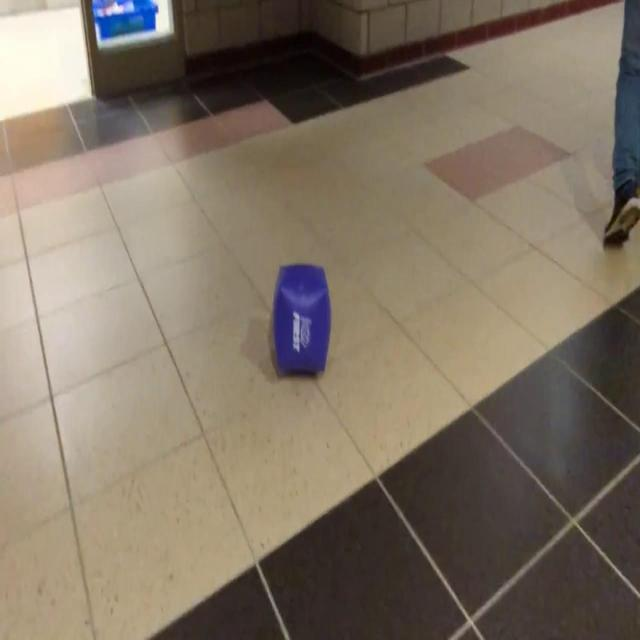frc_cube: (272, 262, 331, 372)
